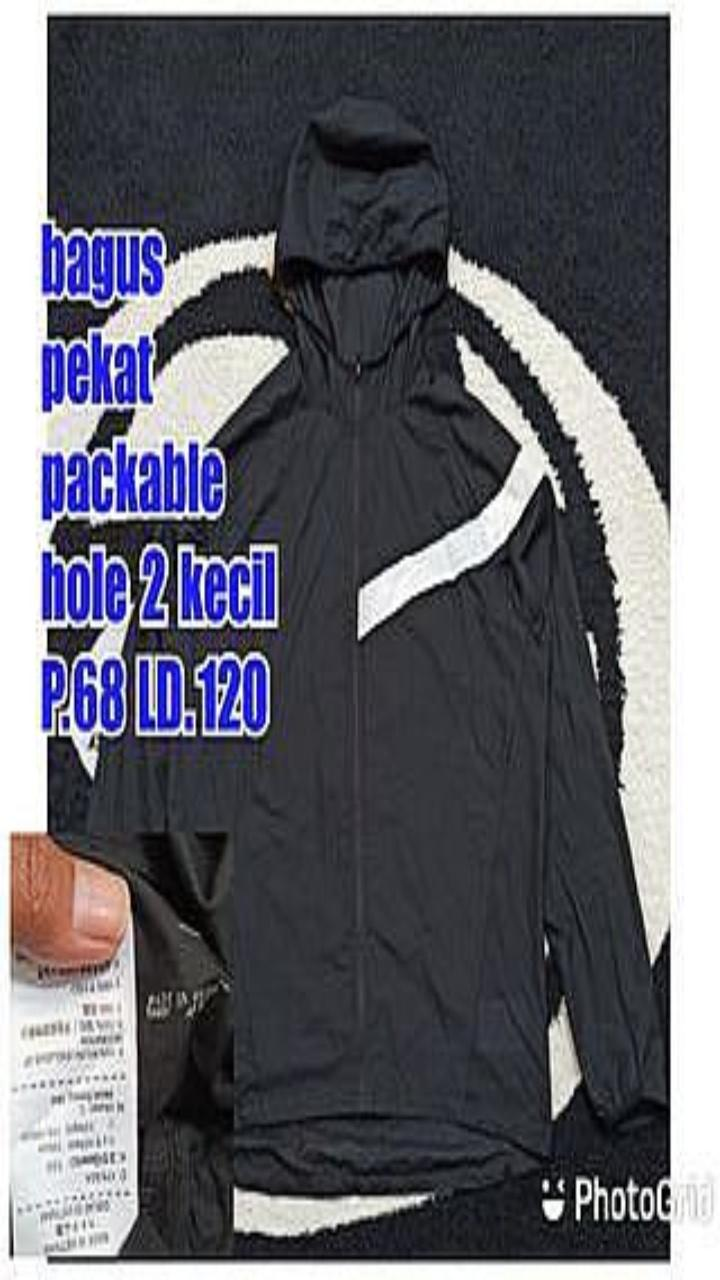Sports_Jacket: (89, 98, 665, 1193)
